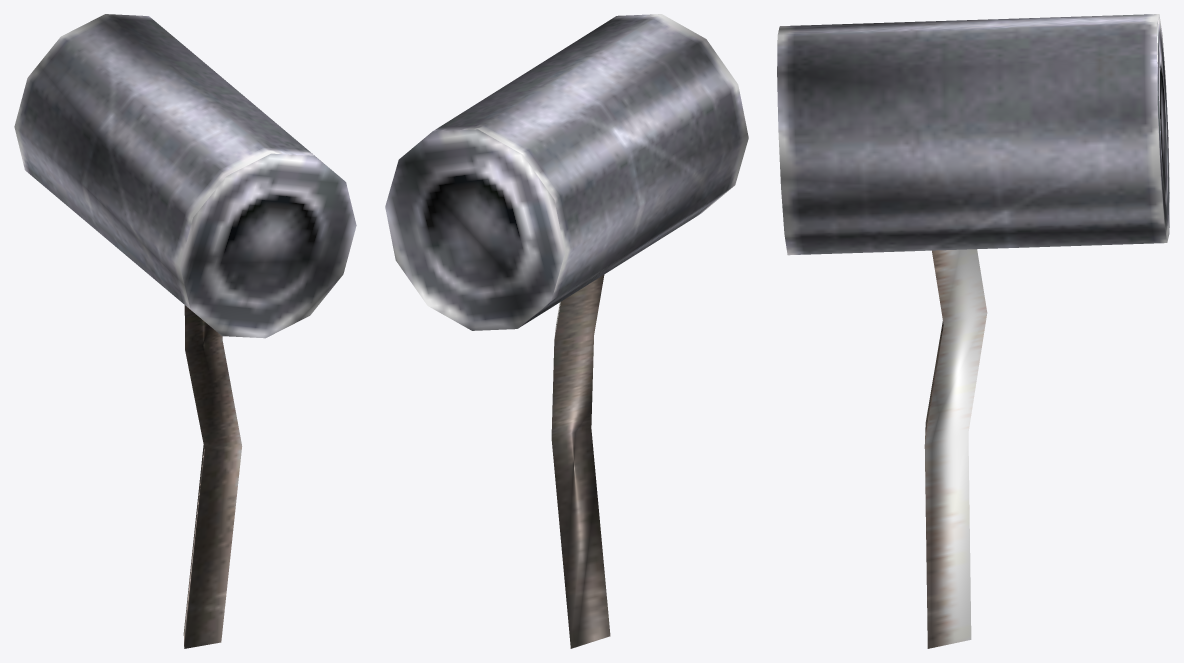
Rendered from Robot01.LeftHip3.fbx.
3 views of the same model, side by side, from view 1: azimuth 30°, elevation 25°; view 2: azimuth 150°, elevation 25°; view 3: azimuth 270°, elevation 25° (orthographic). The views are drawn at different scales.
Parts seen in each view (by area): view 1: Robot.009; view 2: Robot.009; view 3: Robot.009.
Boxes of the visible parts, x1,y1,x2,y2 form: Robot.009: (14, 14, 356, 648); Robot.009: (385, 14, 748, 648); Robot.009: (777, 14, 1169, 648).
Size of the model in its own units: 15.56 by 46.17 by 26.55.
